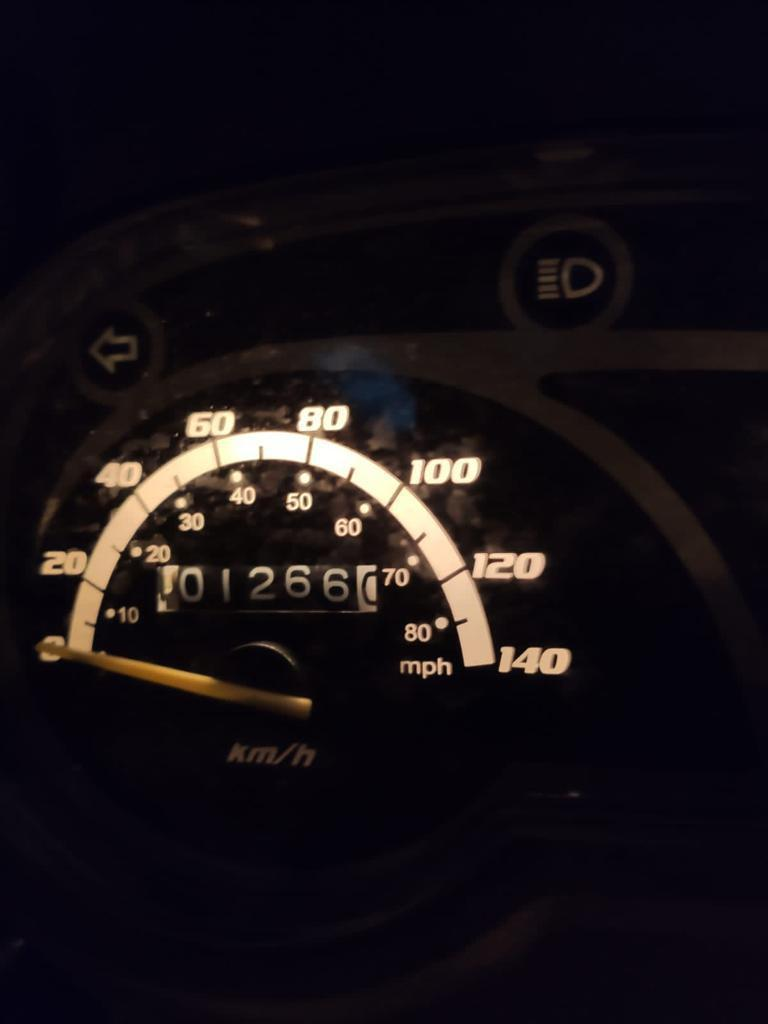0: (178, 566, 204, 603), (361, 571, 382, 605)
1: (220, 568, 231, 604)
2: (247, 565, 275, 601)
6: (284, 564, 311, 599), (322, 567, 349, 602)
odometer: (154, 561, 381, 617)
